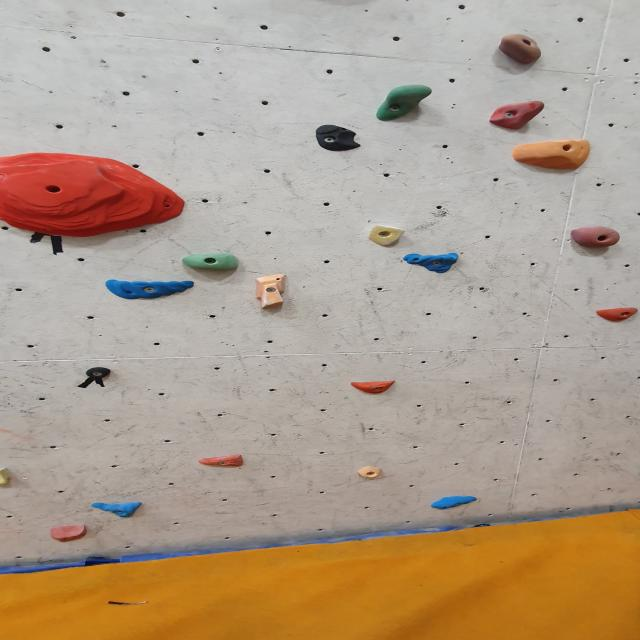Crimp: (2, 160, 188, 239), (102, 279, 198, 299), (402, 255, 462, 275), (367, 226, 406, 249), (90, 501, 146, 516), (194, 453, 249, 468), (349, 380, 401, 395), (594, 307, 640, 323), (429, 495, 480, 509), (356, 466, 384, 480)
Jug: (374, 85, 436, 124), (488, 101, 547, 130), (497, 34, 546, 65), (568, 228, 623, 250), (182, 252, 242, 272)
Pinch: (255, 273, 298, 312), (84, 366, 116, 378)
Sloper: (509, 140, 594, 174), (310, 125, 363, 154), (48, 525, 90, 543)
